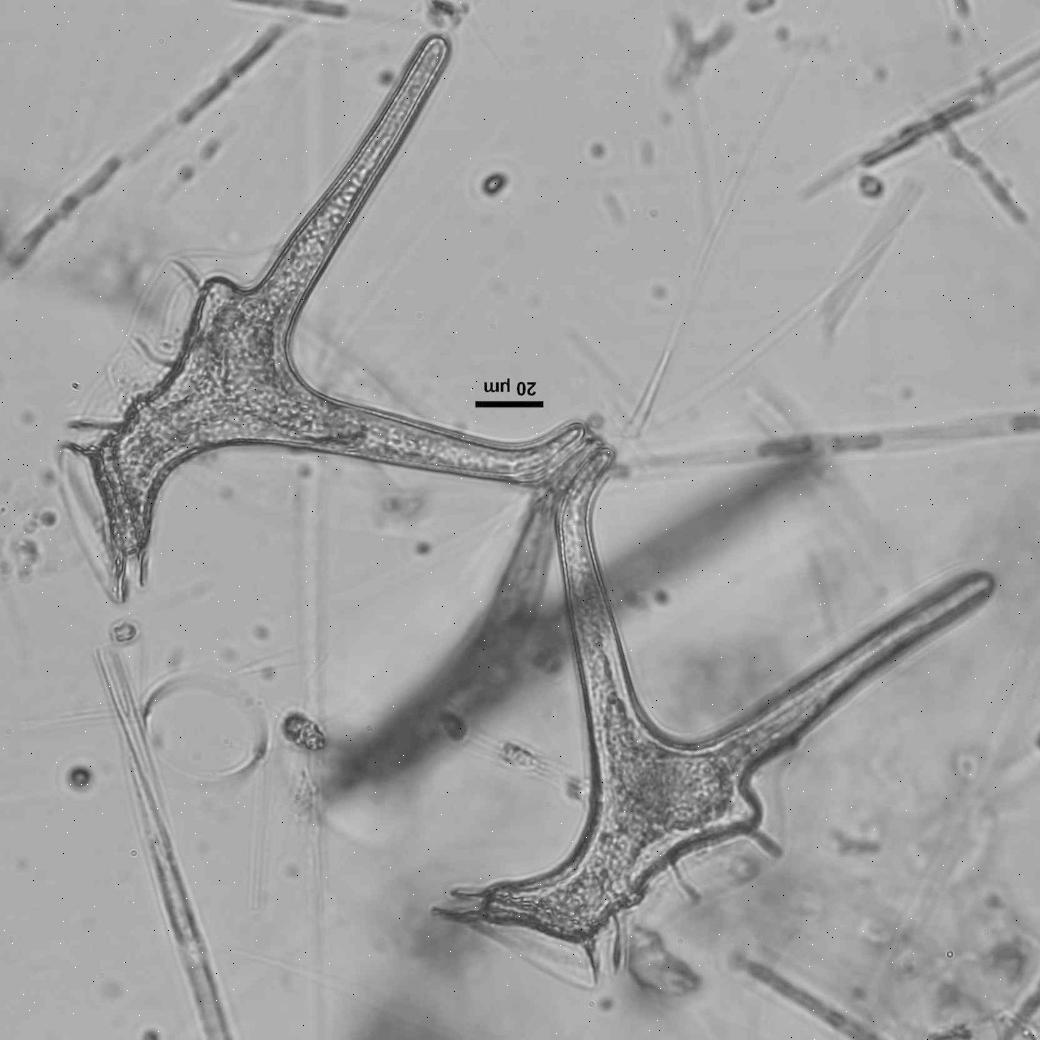dinophysis_miles: (70, 43, 586, 571), (480, 455, 994, 941)
